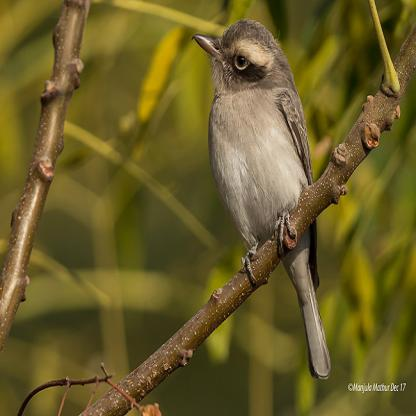Burung: (191, 18, 331, 379)
